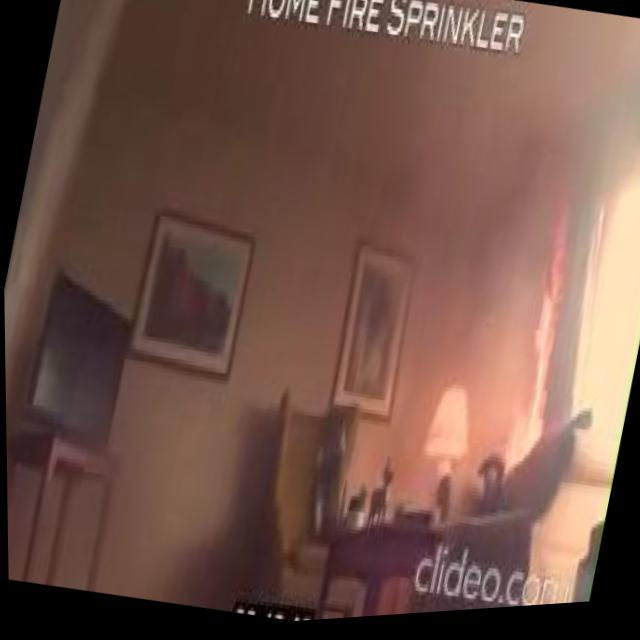fire: (483, 159, 600, 488)
